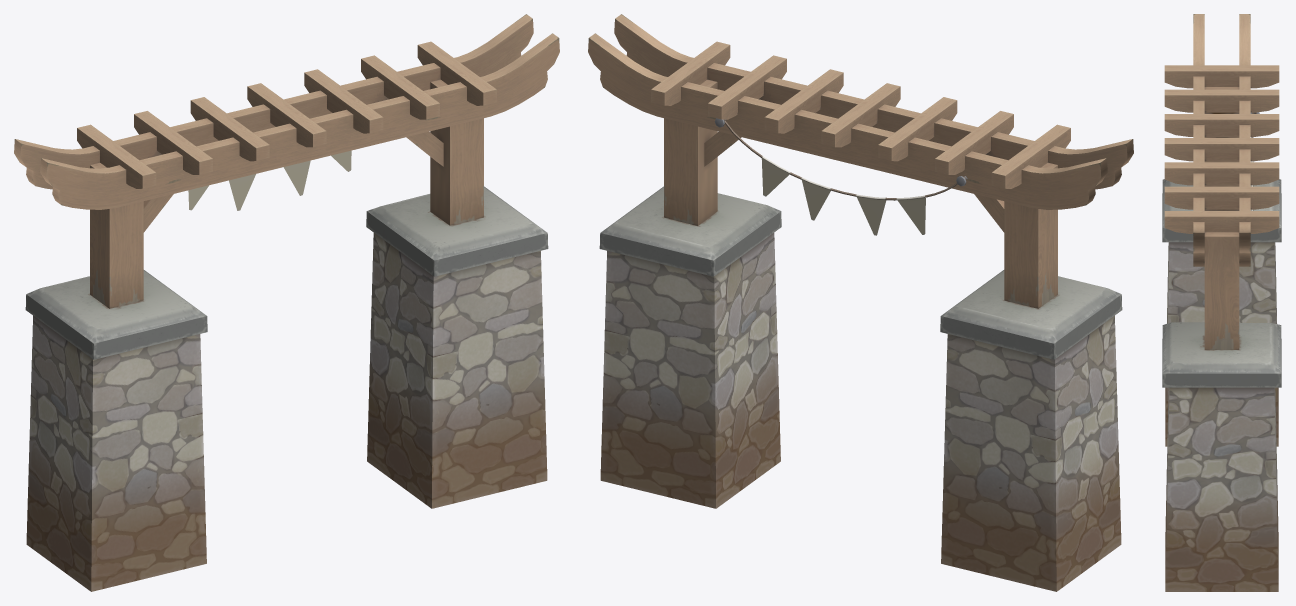
File: G_Entrance_001_S100.fbx
3 renders of one model, left to right at view 1: azimuth 30°, elevation 25°; view 2: azimuth 150°, elevation 25°; view 3: azimuth 270°, elevation 25°, orthographic. The views are drawn at different scales.
Parts seen in each view (by area): view 1: G_Entrance_001_S1_P01_LOD0; view 2: G_Entrance_001_S1_P01_LOD0; view 3: G_Entrance_001_S1_P01_LOD0.
Boxes of the visible parts, x1,y1,x2,y2 form: G_Entrance_001_S1_P01_LOD0: [14, 14, 559, 591]; G_Entrance_001_S1_P01_LOD0: [588, 14, 1133, 591]; G_Entrance_001_S1_P01_LOD0: [1162, 14, 1281, 591].
Size of the model in its own units: 452 by 357 by 104.
1 material, 1 textured.
